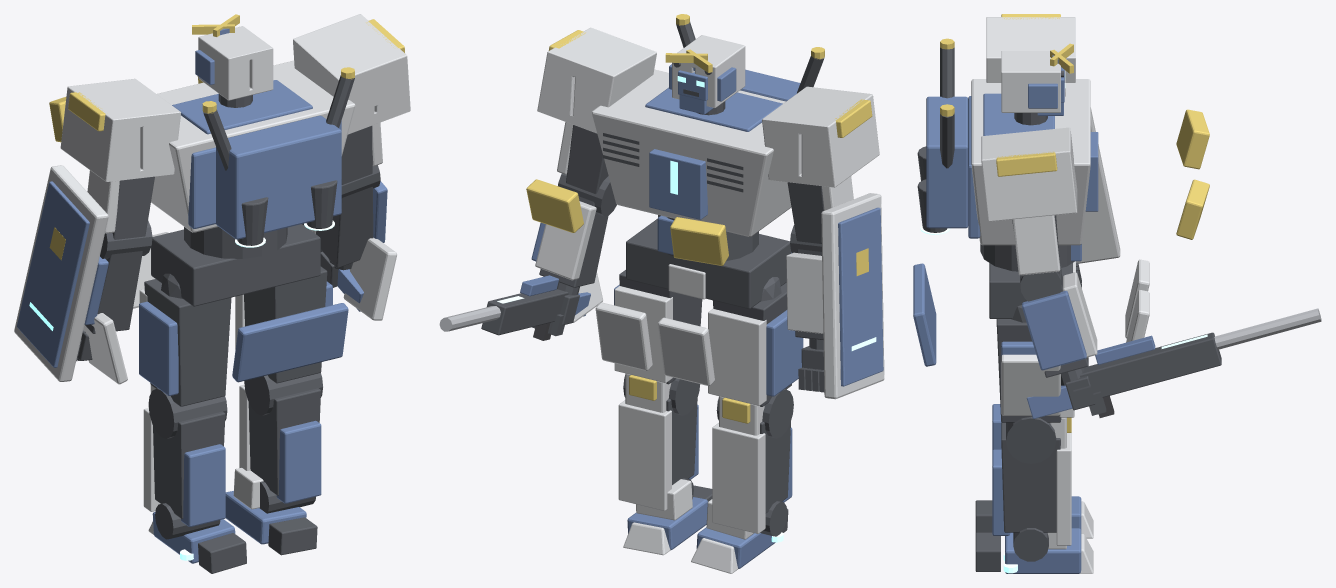
File: mech_g2.glb
The picture shows the model from 3 angles, left to right: view 1: azimuth 30°, elevation 25°; view 2: azimuth 150°, elevation 25°; view 3: azimuth 270°, elevation 25°; orthographic projection. The views are drawn at different scales.
Parts seen in each view (by area): view 1: backpack, pauldron, pauldron.001, pelvis, shield_rim, chest, skirt_rear, thigh, shield, skull, shin, shin.001 (+38 smaller); view 2: chest, pauldron, pauldron.001, shield_rim, pelvis, shin_plate, shin_plate.001, thigh_plate, shield, cockpit, skirt_front.001, skirt_front (+39 smaller); view 3: pauldron.001, chest, backpack, rifle_body, shin.001, pauldron, forearm_side.001, skull, skirt_side.001, upper_arm_plate.001, shield, knee.001 (+26 smaller).
Boxes of the visible parts, left/top/right/bottom form: backpack: left=216, top=115, right=341, bottom=239; pauldron: left=60, top=78, right=180, bottom=181; pauldron.001: left=293, top=14, right=410, bottom=134; pelvis: left=151, top=224, right=320, bottom=306; shield_rim: left=17, top=181, right=89, bottom=367; chest: left=151, top=60, right=355, bottom=232; skirt_rear: left=232, top=303, right=348, bottom=382; thigh: left=144, top=279, right=231, bottom=406; shield: left=14, top=165, right=108, bottom=381; skull: left=198, top=26, right=273, bottom=100; shin: left=153, top=411, right=225, bottom=518; shin.001: left=248, top=388, right=320, bottom=495; chest: left=592, top=69, right=791, bottom=236; pauldron: left=762, top=86, right=879, bottom=187; pauldron.001: left=537, top=27, right=656, bottom=133; shield_rim: left=838, top=207, right=883, bottom=386; pelvis: left=626, top=218, right=791, bottom=308; shin_plate: left=712, top=423, right=765, bottom=533; shin_plate.001: left=618, top=400, right=671, bottom=510; thigh_plate: left=708, top=308, right=766, bottom=405; shield: left=821, top=193, right=884, bottom=399; cockpit: left=649, top=149, right=707, bottom=219; skirt_front.001: left=595, top=302, right=652, bottom=370; skirt_front: left=658, top=317, right=714, bottom=385; pauldron.001: left=981, top=127, right=1077, bottom=221; chest: left=971, top=79, right=1090, bottom=245; backpack: left=926, top=96, right=968, bottom=228; rifle_body: left=1080, top=332, right=1221, bottom=397; shin.001: left=1001, top=422, right=1060, bottom=532; pauldron: left=986, top=17, right=1075, bottom=82; forearm_side.001: left=1022, top=290, right=1086, bottom=370; skull: left=1001, top=51, right=1060, bottom=112; skirt_side.001: left=1001, top=354, right=1060, bottom=415; upper_arm_plate.001: left=1012, top=215, right=1060, bottom=275; shield: left=1076, top=107, right=1120, bottom=263; knee.001: left=1006, top=416, right=1056, bottom=463.
Size of the model in its own units: 10.73 by 15.44 by 11.61.
